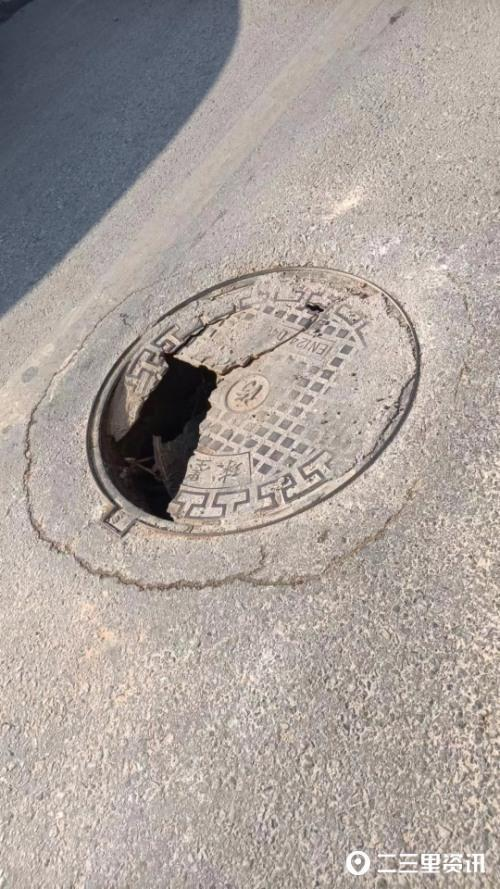broke: (26, 247, 461, 614)
